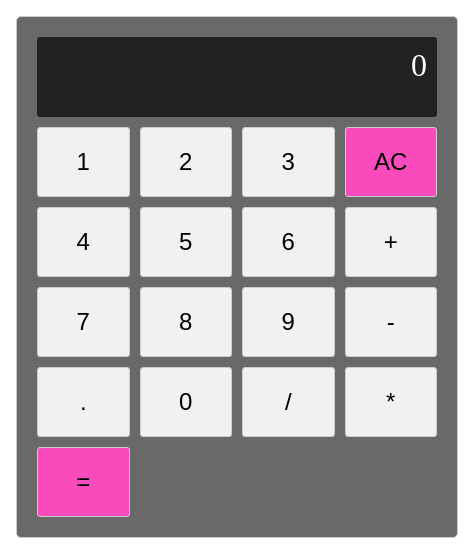
handles number input correctly
The width and height of the screenshot is (475, 555).
What coordinates should you click on to do the following:
click the button "1"
I would click on:
 (83, 162)
Its box is [37,127,130,197].
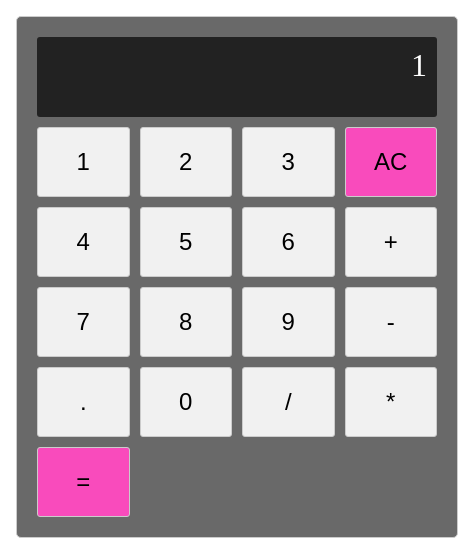
What coordinates should you click on to do the following:
click the button "2"
I would click on:
 (186, 162)
Its box is [140,127,232,197].
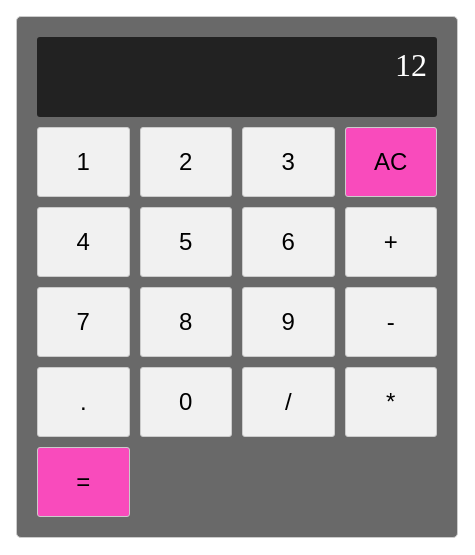
expect the text "12" is shown: met, box [37,37,437,117]
